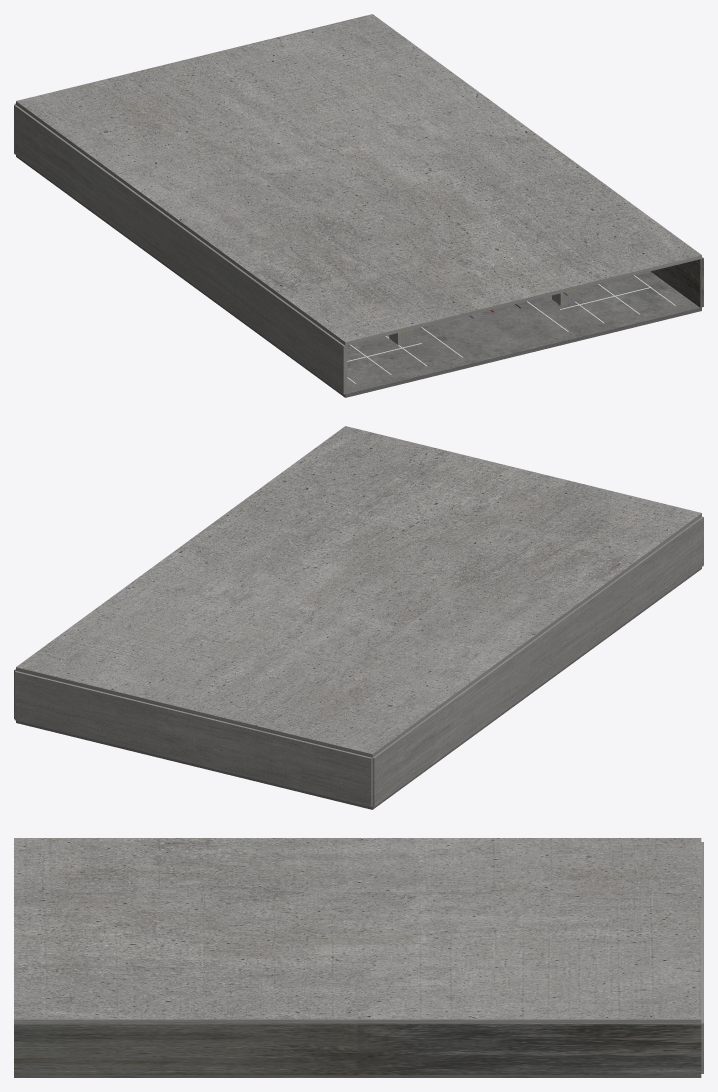
File: 04_old_service_elevator.glb
3 views of the same model, one above another, from view 1: azimuth 30°, elevation 25°; view 2: azimuth 150°, elevation 25°; view 3: azimuth 270°, elevation 25° (orthographic). The views are drawn at different scales.
Visible parts, largest first — view 1: Concrete ceiling, Concrete floor, Left retaining wall, Right retaining wall; view 2: Concrete ceiling, Rear elevator wall, Left retaining wall, Concrete floor; view 3: Concrete ceiling, Right retaining wall, Concrete floor, Rear elevator wall.
Boxes of the visible parts, left/top/right/bottom form: Concrete ceiling: left=16, top=14, right=701, bottom=345; Concrete floor: left=16, top=155, right=701, bottom=397; Left retaining wall: left=14, top=104, right=347, bottom=394; Right retaining wall: left=651, top=257, right=703, bottom=307; Concrete ceiling: left=16, top=426, right=701, bottom=757; Rear elevator wall: left=14, top=671, right=372, bottom=807; Left retaining wall: left=372, top=516, right=703, bottom=806; Concrete floor: left=16, top=567, right=701, bottom=809; Concrete ceiling: left=14, top=838, right=701, bottom=1023; Right retaining wall: left=14, top=1023, right=701, bottom=1074; Concrete floor: left=14, top=1075, right=701, bottom=1077; Rear elevator wall: left=701, top=842, right=703, bottom=1073.
Bounding box in the file's own units: 25.26 × 3.73 × 40.15.
12 materials, 3 textured.
